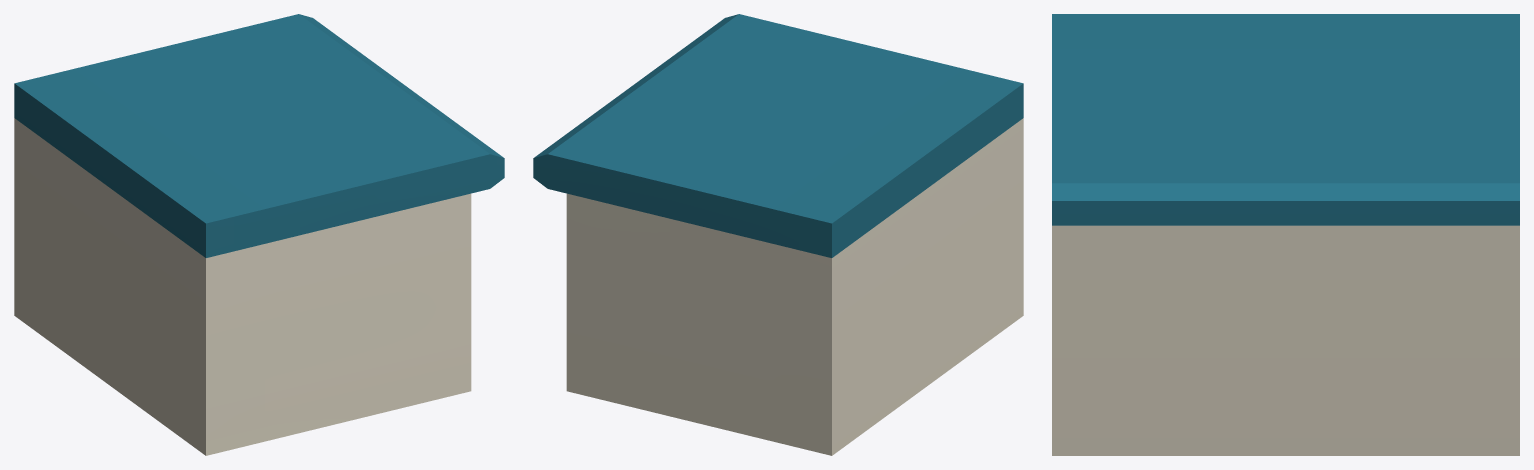
The model's file is Cabinet1.glb.
3 renders of one model, left to right at view 1: azimuth 30°, elevation 25°; view 2: azimuth 150°, elevation 25°; view 3: azimuth 270°, elevation 25°, orthographic. The views are drawn at different scales.
Parts seen in each view (by area): view 1: Cabinet1; view 2: Cabinet1; view 3: Cabinet1.
Part boxes in pixels (x1,y1,x2,y2): Cabinet1: (14,14,504,455); Cabinet1: (533,14,1023,455); Cabinet1: (1052,14,1519,455).
Bounding box in the file's own units: 0.9 × 0.6696 × 1.
Materials: 1 (1 with a texture image).
